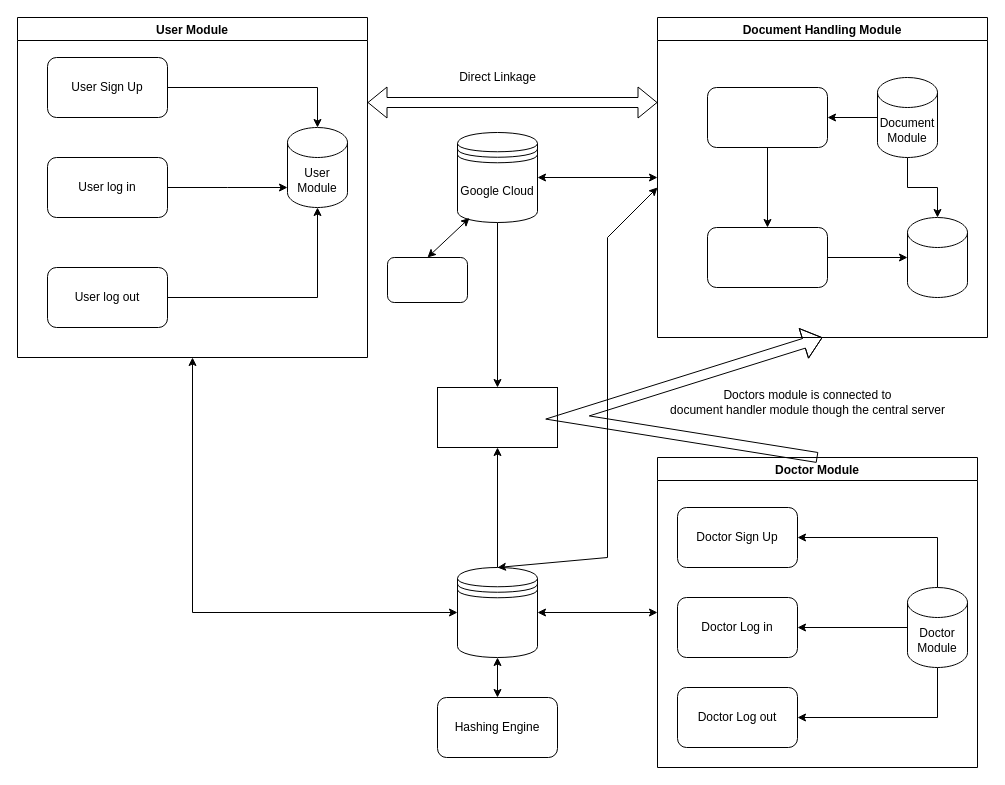
This 1005x785 diagram has some shape labels left out. The shapes that lost their labels are listed below. From the top down, each one's centre as x and y in pixels, then its label:
At (767,117): "Document Handler Engine".
At (767,257): "ACL Handler Engine".
At (937,257): "ACL Module".
At (427,279): "Compression Engine".
At (497,417): "Central Server".
At (497,612): "MongoDB Database".
